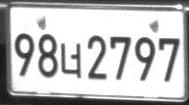2: (85, 35, 107, 81)
7: (157, 37, 180, 82), (109, 36, 131, 80)
8: (36, 34, 59, 78)
9: (135, 35, 157, 81), (13, 33, 35, 77)
너: (59, 41, 81, 79)
